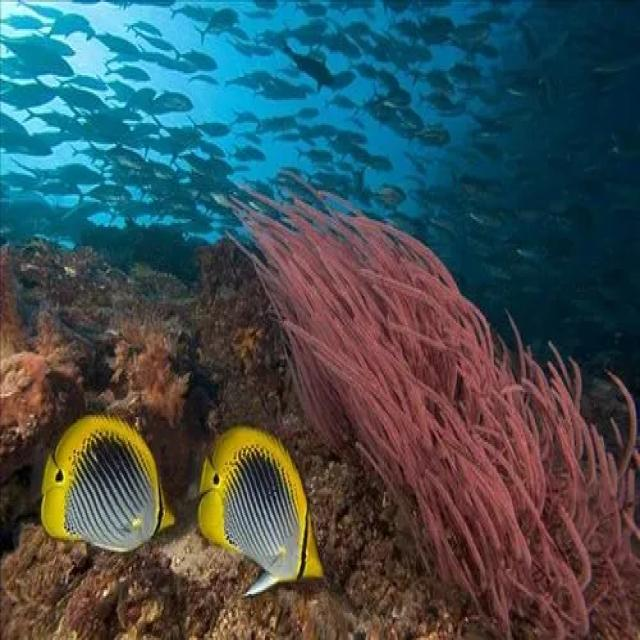ButterflyFish: (201, 428, 323, 593), (40, 414, 174, 551)
